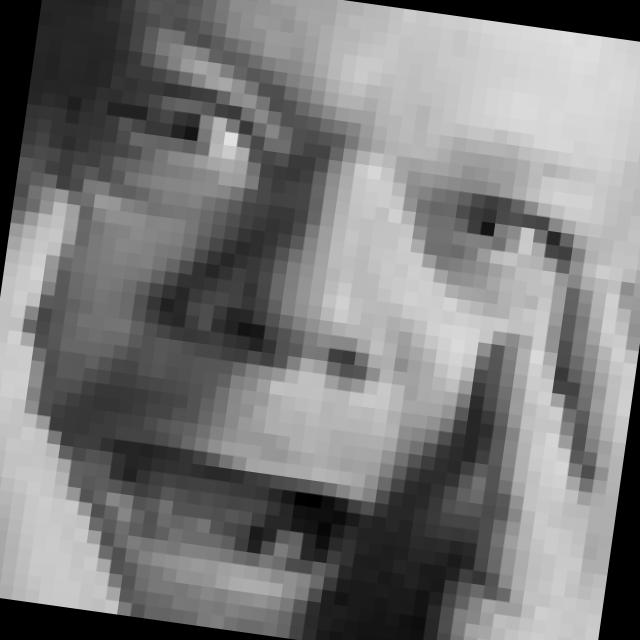fear: (24, 7, 608, 640)
